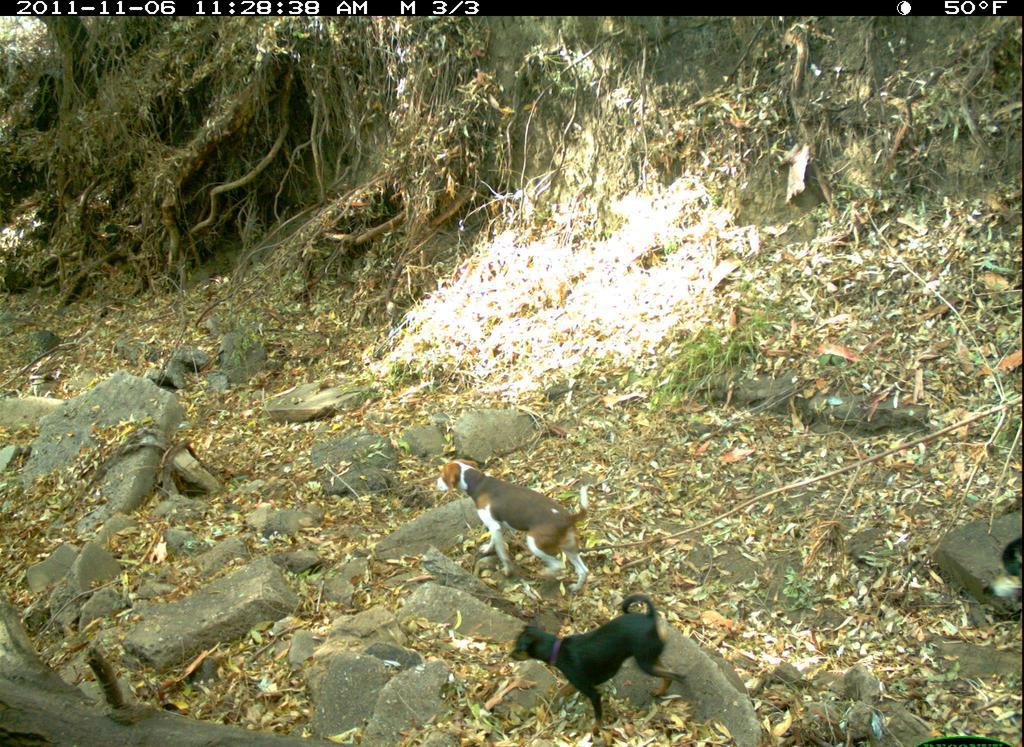dog: (504, 586, 697, 746), (427, 451, 609, 601)
